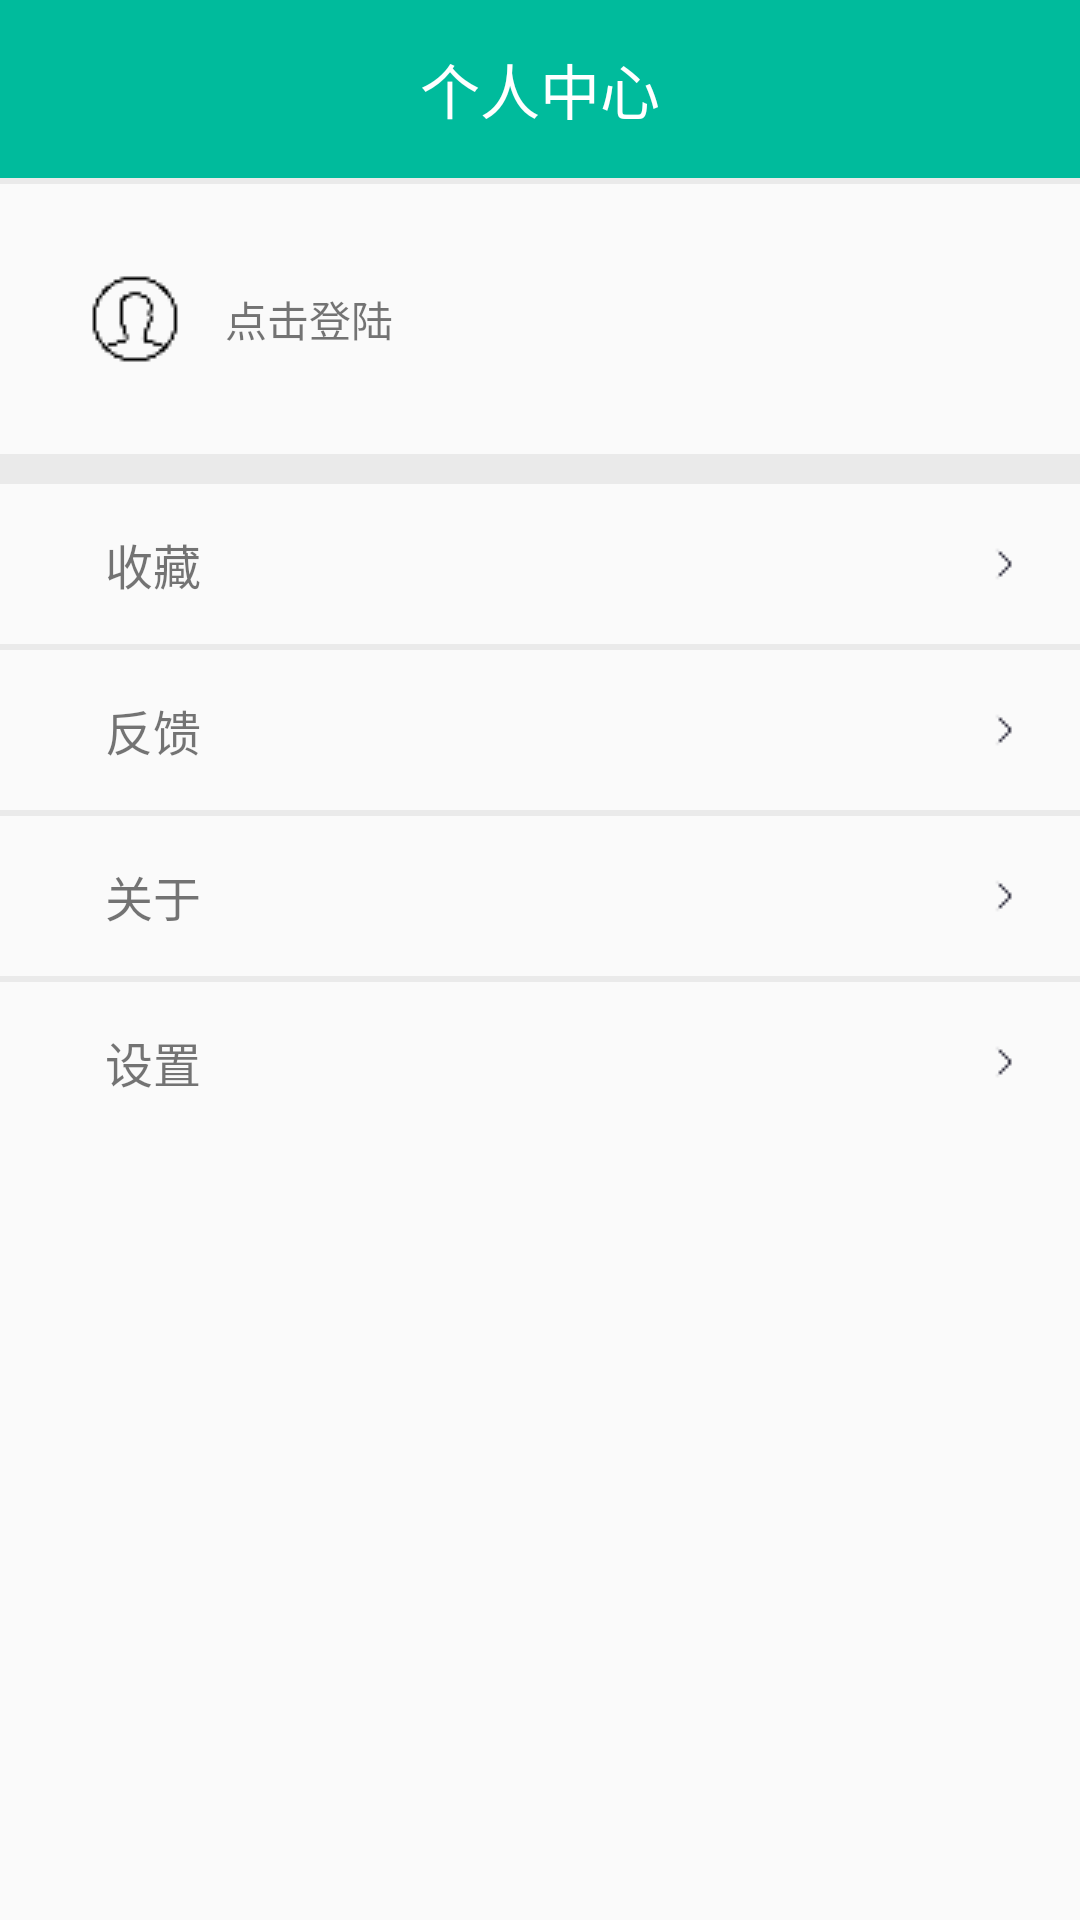

Point at icon controls on the screen. Image size 1080*1920, points as point (x, y).
head: point (135, 319)
